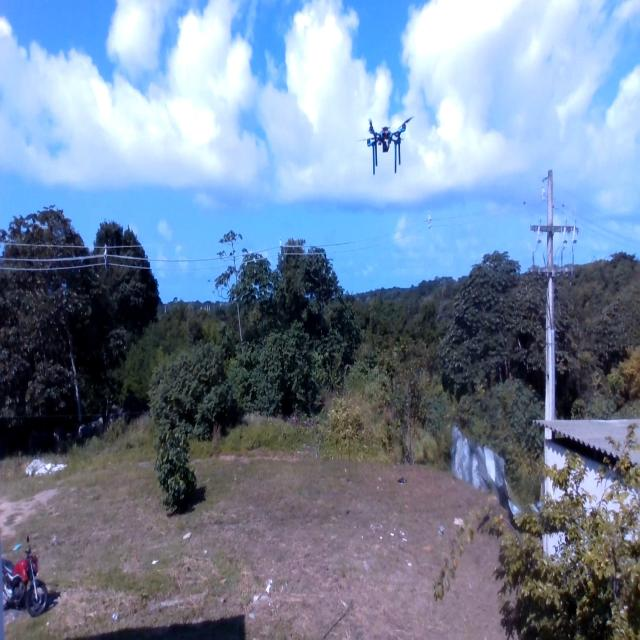-uav-: (354, 99, 418, 194)
